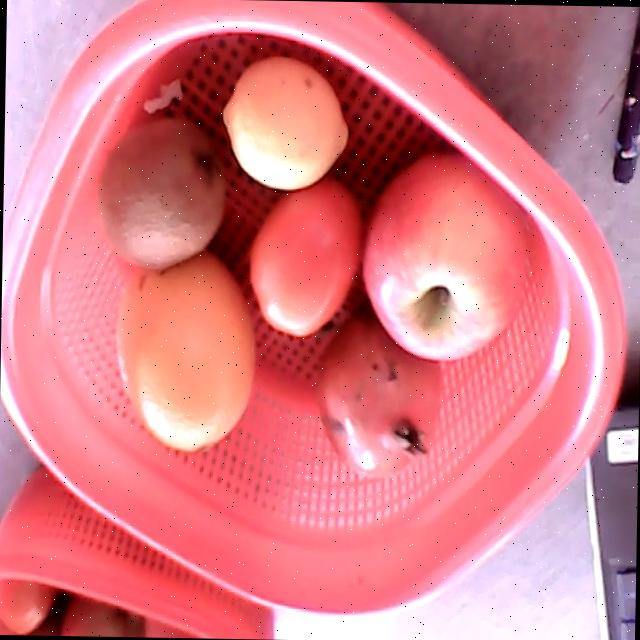apple: (361, 152, 524, 362)
kiwi: (97, 120, 222, 267)
lemon: (222, 53, 346, 189)
orange: (116, 255, 254, 452)
pomegranate: (316, 317, 441, 473)
tomato: (247, 179, 360, 336)
